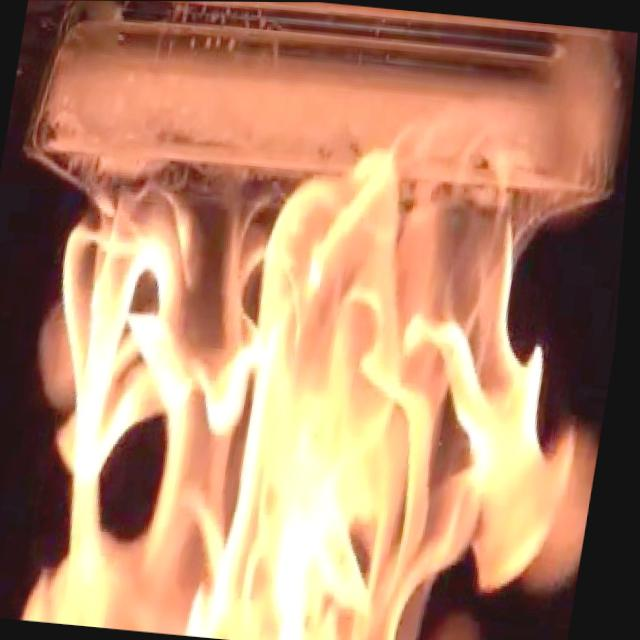Smoke: (6, 107, 632, 640)
